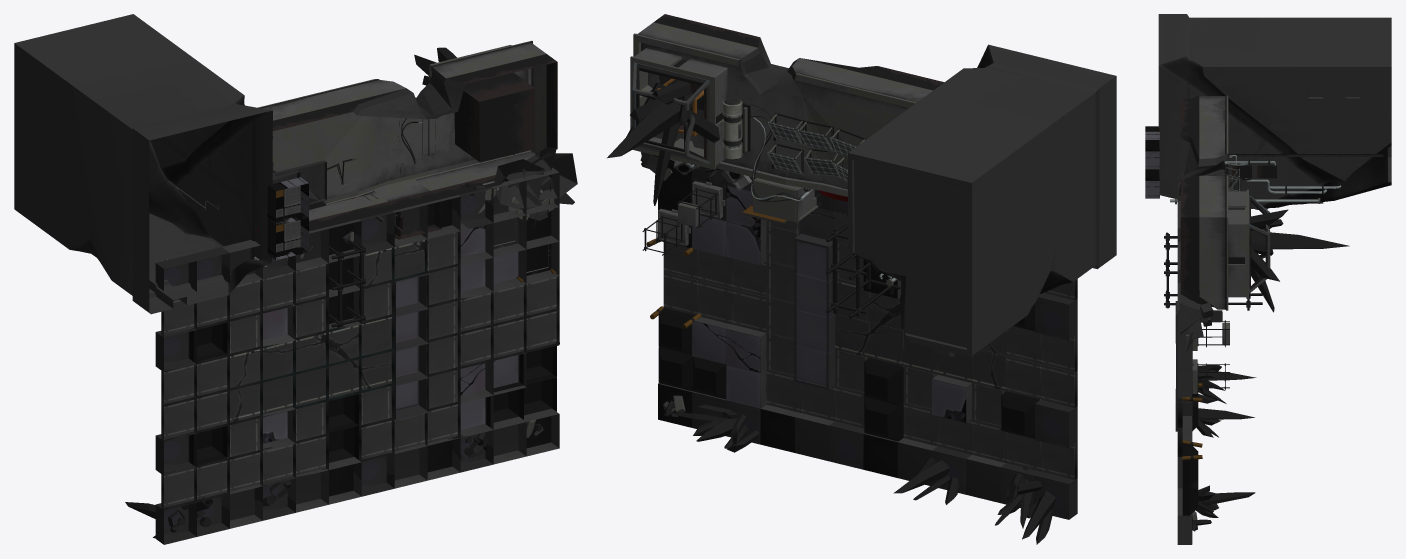
3 renders of one model, left to right at view 1: azimuth 30°, elevation 25°; view 2: azimuth 150°, elevation 25°; view 3: azimuth 270°, elevation 25°, orthographic. The views are drawn at different scales.
Visible parts, largest first — view 1: S_outworld, S_playground; view 2: S_outworld, S_playground; view 3: S_outworld, S_playground.
Part boxes in pixels (left/top/right/bottom): S_outworld: left=14, top=14, right=577, bottom=544; S_playground: left=188, top=167, right=559, bottom=536; S_outworld: left=607, top=14, right=1116, bottom=544; S_playground: left=658, top=159, right=1040, bottom=508; S_outworld: left=1145, top=14, right=1391, bottom=531; S_playground: left=1175, top=186, right=1198, bottom=544.
Size of the model in its own units: 0.134 by 0.1258 by 0.0761.
Materials: 2 (2 with a texture image).
